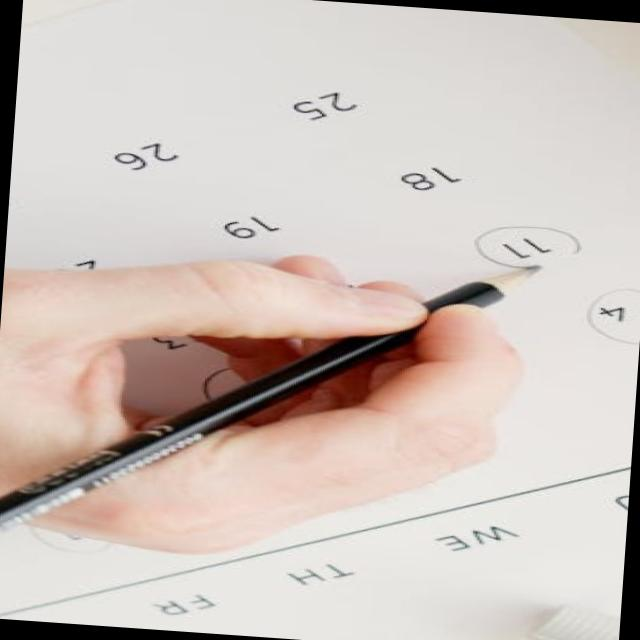pen: (0, 257, 555, 553)
